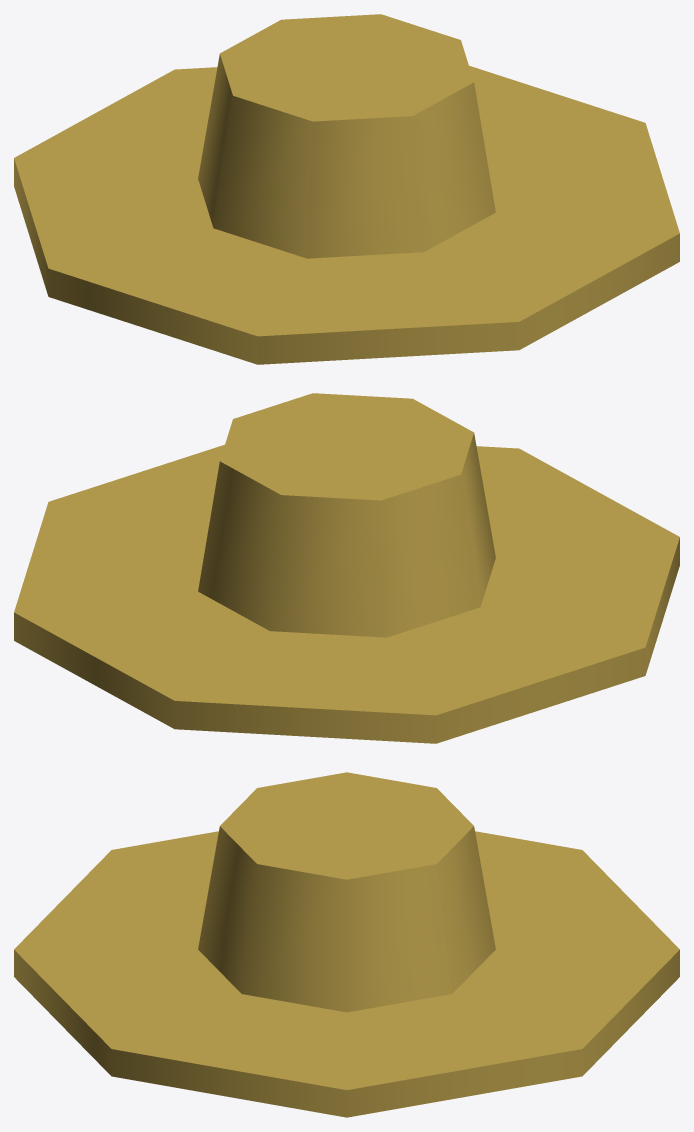
The model's file is hat_straw.glb.
The picture shows the model from 3 angles, top to bottom: view 1: azimuth 30°, elevation 25°; view 2: azimuth 150°, elevation 25°; view 3: azimuth 270°, elevation 25°; orthographic projection. The views are drawn at different scales.
Parts seen in each view (by area): view 1: hat_straw; view 2: hat_straw; view 3: hat_straw.
Boxes of the visible parts, x1,y1,x2,y2 form: hat_straw: [14, 14, 679, 364]; hat_straw: [14, 393, 679, 743]; hat_straw: [14, 772, 679, 1117].
Size of the model in its own units: 0.297 by 0.0742 by 0.297.
